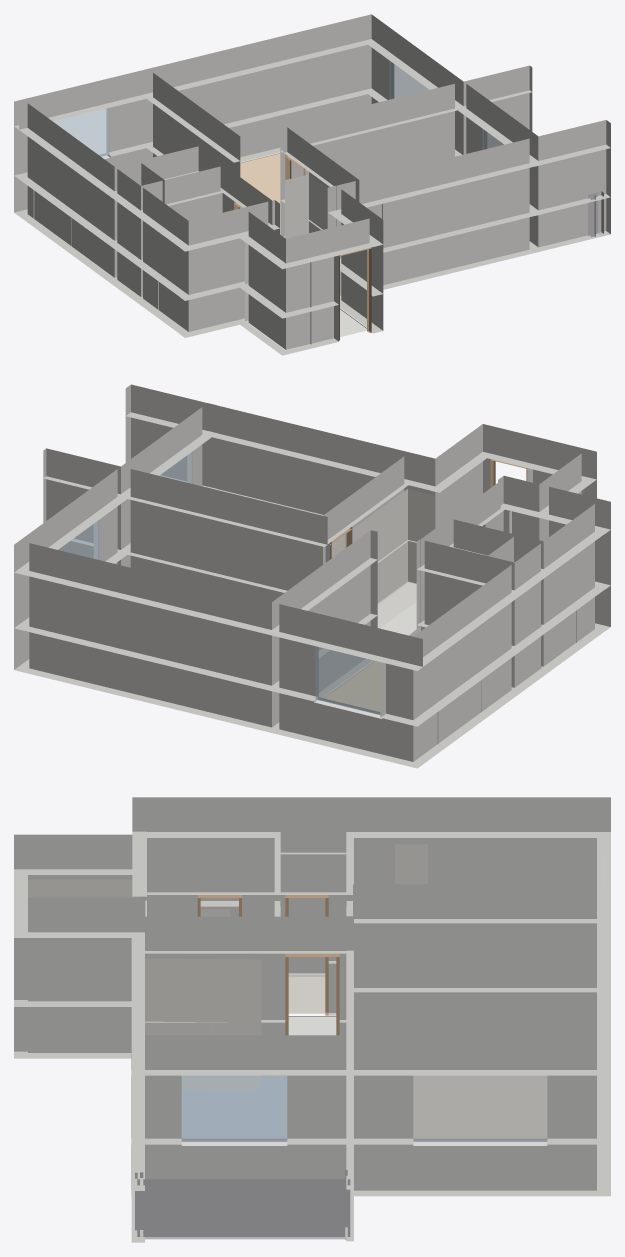
3 views of the same model, one above another, from view 1: azimuth 30°, elevation 25°; view 2: azimuth 150°, elevation 25°; view 3: azimuth 270°, elevation 25° (orthographic). The views are drawn at different scales.
Parts seen in each view (by area): view 1: walls, furniture_2_closet, window_2, floor_1_Living_Room, window_3, railings, door_4, furniture_4_closet; view 2: walls, furniture_2_closet, window_2, floor_0_Kitchen, window_3, floor_2_Undefined, window_0; view 3: walls, railings, furniture_3_closet, window_3, floor_1_Living_Room, window_0, floor_5_Bed_Room, furniture_4_closet, floor_4_Storage, furniture_0_closet, floor_2_Undefined, door_1 (+2 smaller).
Boxes of the visible parts, <box> form: walls: <box>14,14,610,355</box>; furniture_2_closet: <box>285,174,340,296</box>; window_2: <box>53,108,109,156</box>; floor_1_Living_Room: <box>240,153,280,234</box>; window_3: <box>389,61,428,99</box>; railings: <box>588,191,603,236</box>; door_4: <box>339,247,371,340</box>; furniture_4_closet: <box>245,242,311,350</box>; walls: <box>14,384,610,768</box>; furniture_2_closet: <box>352,489,434,628</box>; window_2: <box>315,643,380,714</box>; floor_0_Kitchen: <box>324,661,379,711</box>; window_3: <box>53,516,99,559</box>; floor_2_Undefined: <box>380,602,416,635</box>; window_0: <box>159,447,192,483</box>; walls: <box>14,797,610,1242</box>; railings: <box>135,1170,350,1239</box>; furniture_3_closet: <box>145,958,261,1090</box>; window_3: <box>413,1075,547,1141</box>; floor_1_Living_Room: <box>413,1076,546,1138</box>; window_0: <box>181,1075,287,1141</box>; floor_5_Bed_Room: <box>182,1076,286,1138</box>; furniture_4_closet: <box>28,879,138,897</box>; floor_4_Storage: <box>288,975,325,1013</box>; furniture_0_closet: <box>395,844,427,884</box>; floor_2_Undefined: <box>288,1016,336,1035</box>; door_1: <box>285,953,339,1035</box>.
Size of the model in its own units: 10.83 by 2.72 by 9.41.
